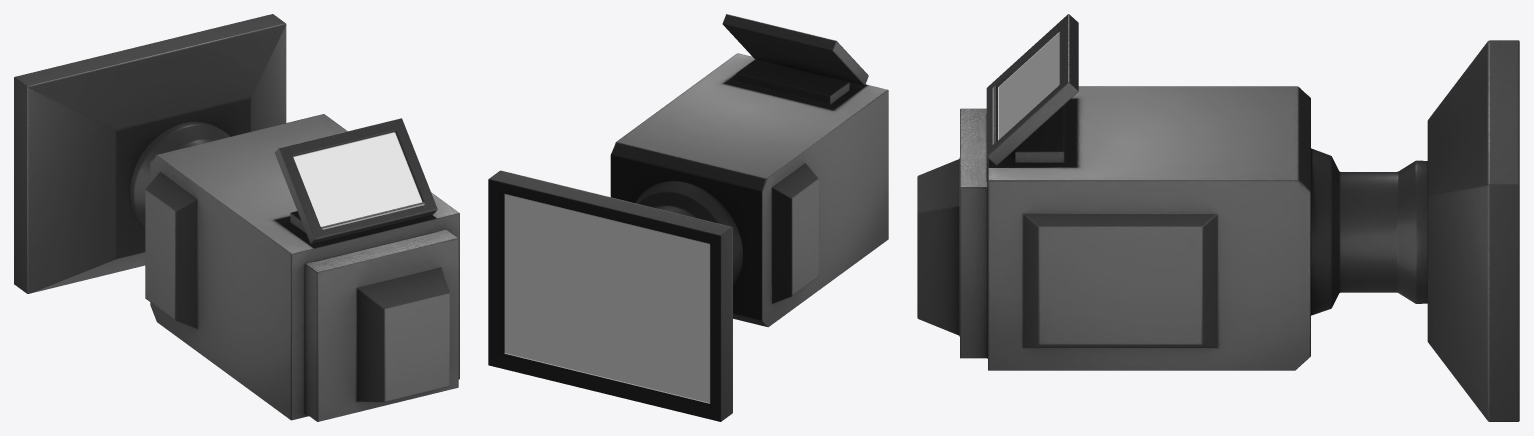
Rendered from camera_black_1.glb.
The picture shows the model from 3 angles, left to right: view 1: azimuth 30°, elevation 25°; view 2: azimuth 150°, elevation 25°; view 3: azimuth 270°, elevation 25°; orthographic projection. The views are drawn at different scales.
Parts seen in each view (by area): view 1: Cam.Helper; view 2: Cam.Helper; view 3: Cam.Helper.
Boxes of the visible parts, x1,y1,x2,y2 form: Cam.Helper: (14, 14, 459, 421); Cam.Helper: (488, 14, 888, 421); Cam.Helper: (917, 14, 1519, 421).
Bounding box in the file's own units: 0.3085 × 0.3 × 0.5423.
2 materials, 1 textured.
